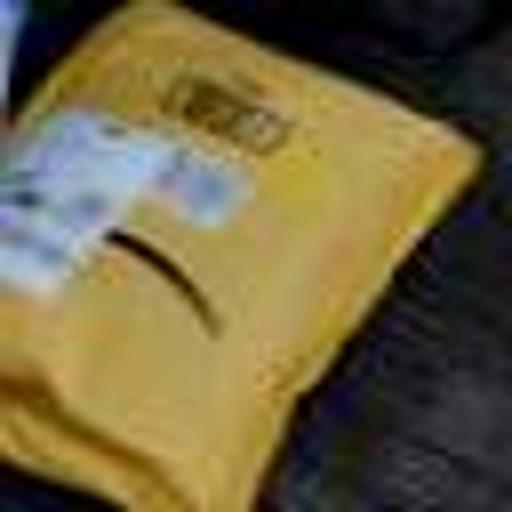Amazon: (0, 23, 461, 495)
